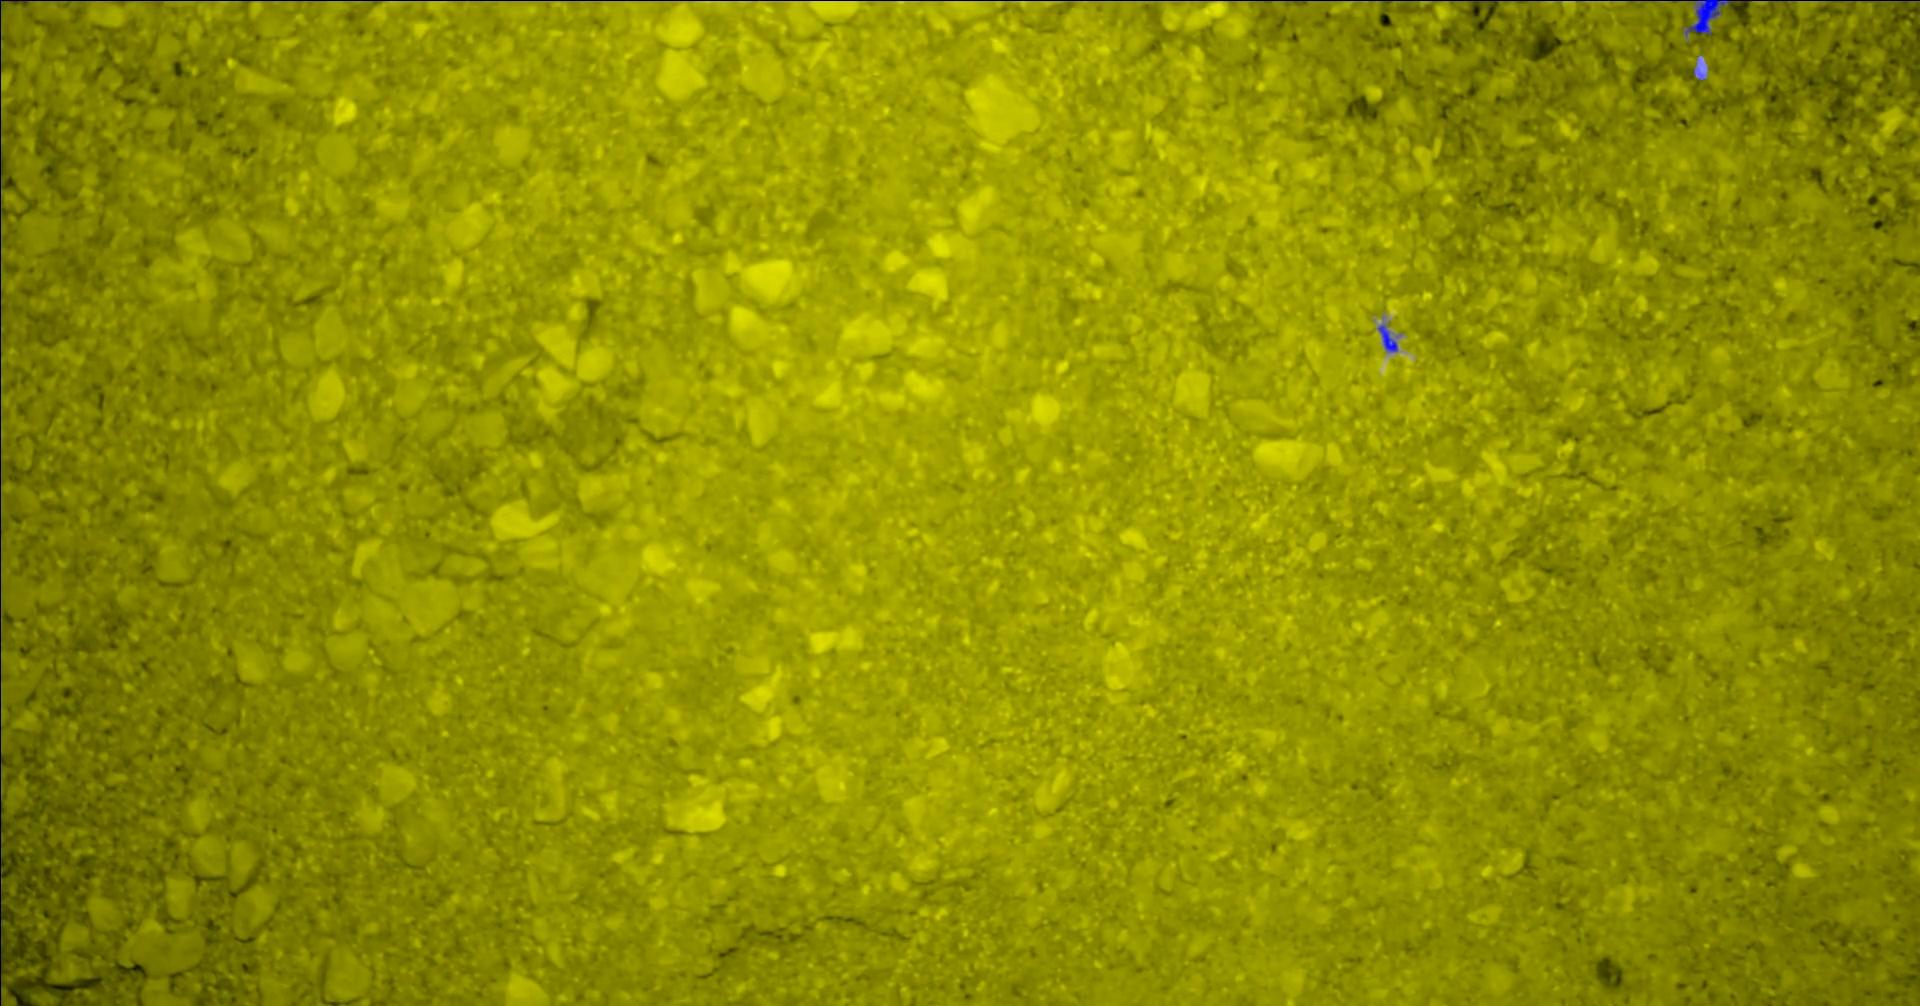ant: (1684, 0, 1751, 36), (1377, 324, 1397, 351)
